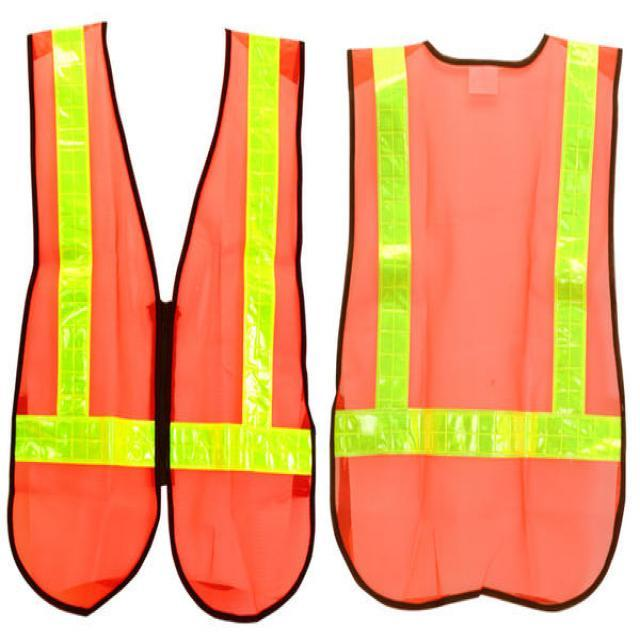reflective_jacket: (0, 0, 639, 639), (0, 16, 326, 614)
